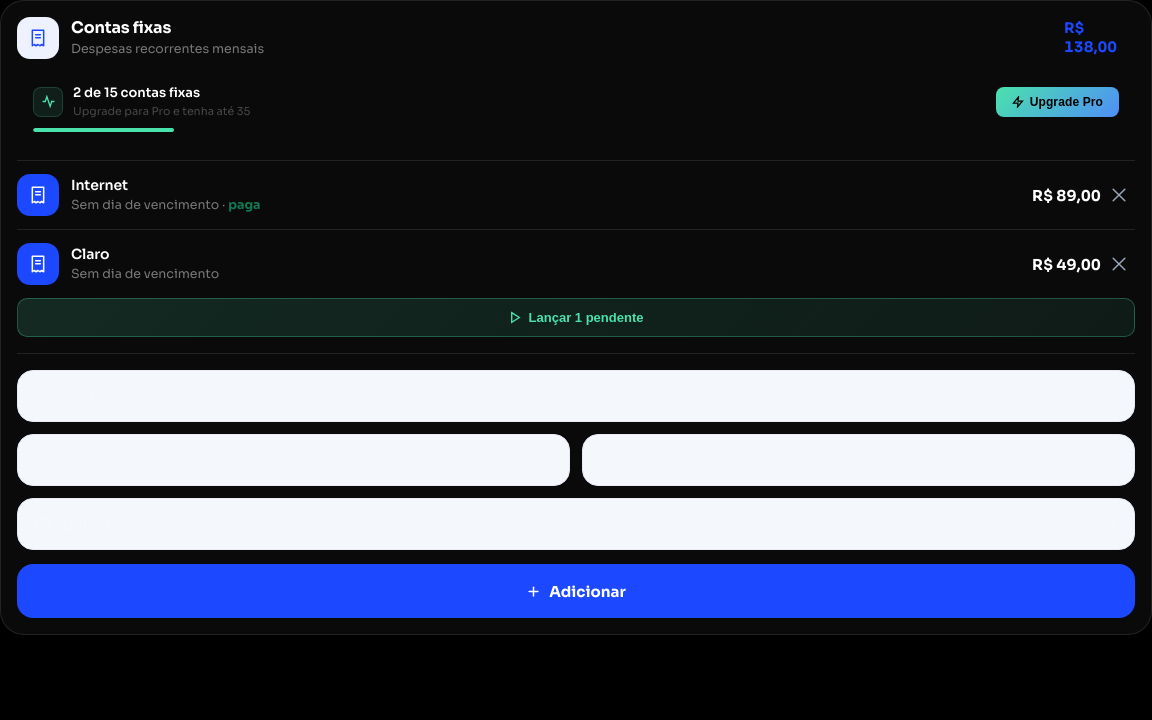
Test case: mostra "paga" pra conta já quitada e botão "Marcar como paga" pra pendente
Expected: the text "Internet" is shown, [71,176,128,194]
Expected: the text "paga" is shown, [228,196,260,212]
Click the button "Claro Sem dia de vencimento R$ 49,00" at (38, 264), box [17,230,1101,298]
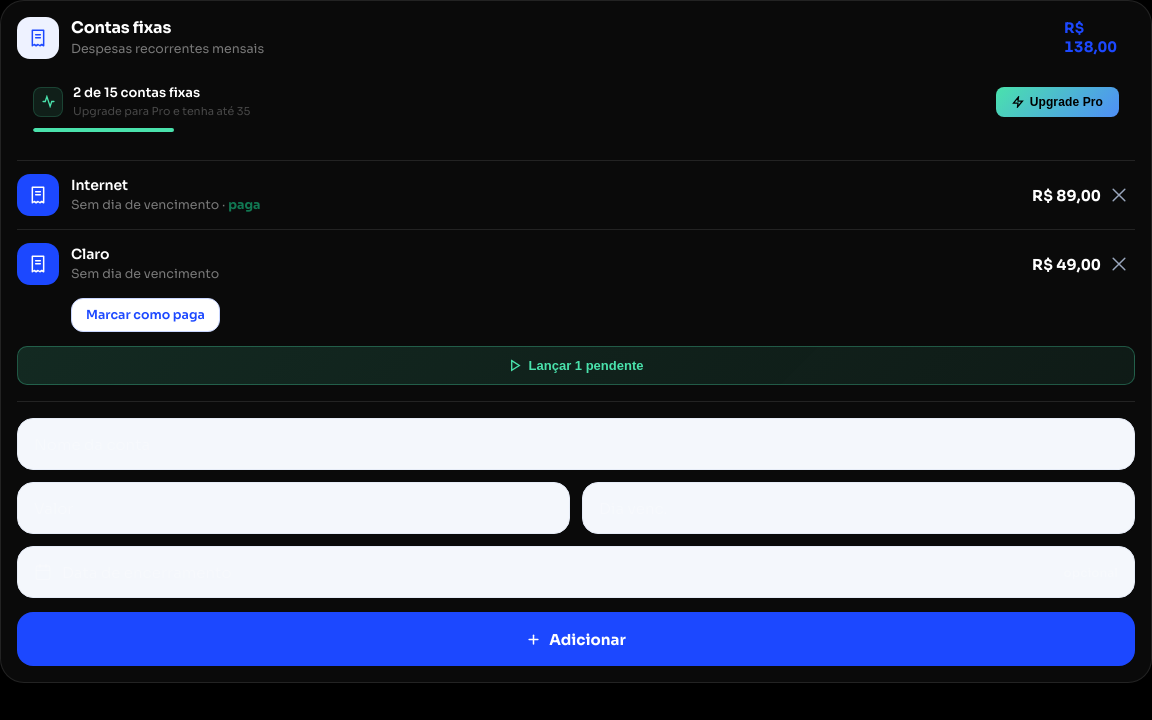
Expected: the button "Marcar como paga" is shown, [71,298,220,332]
